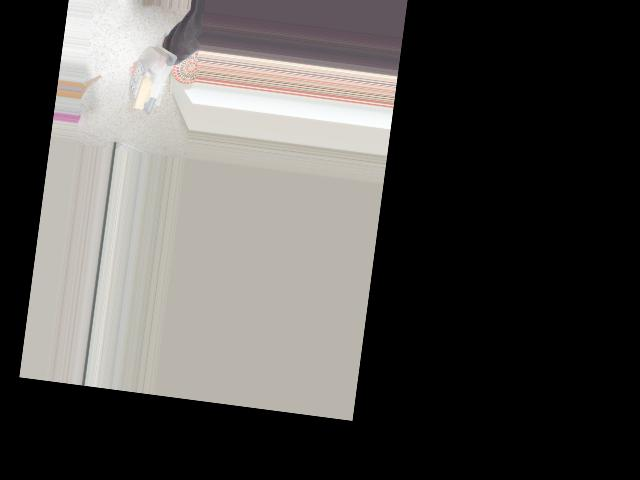cheese: (125, 44, 183, 119)
